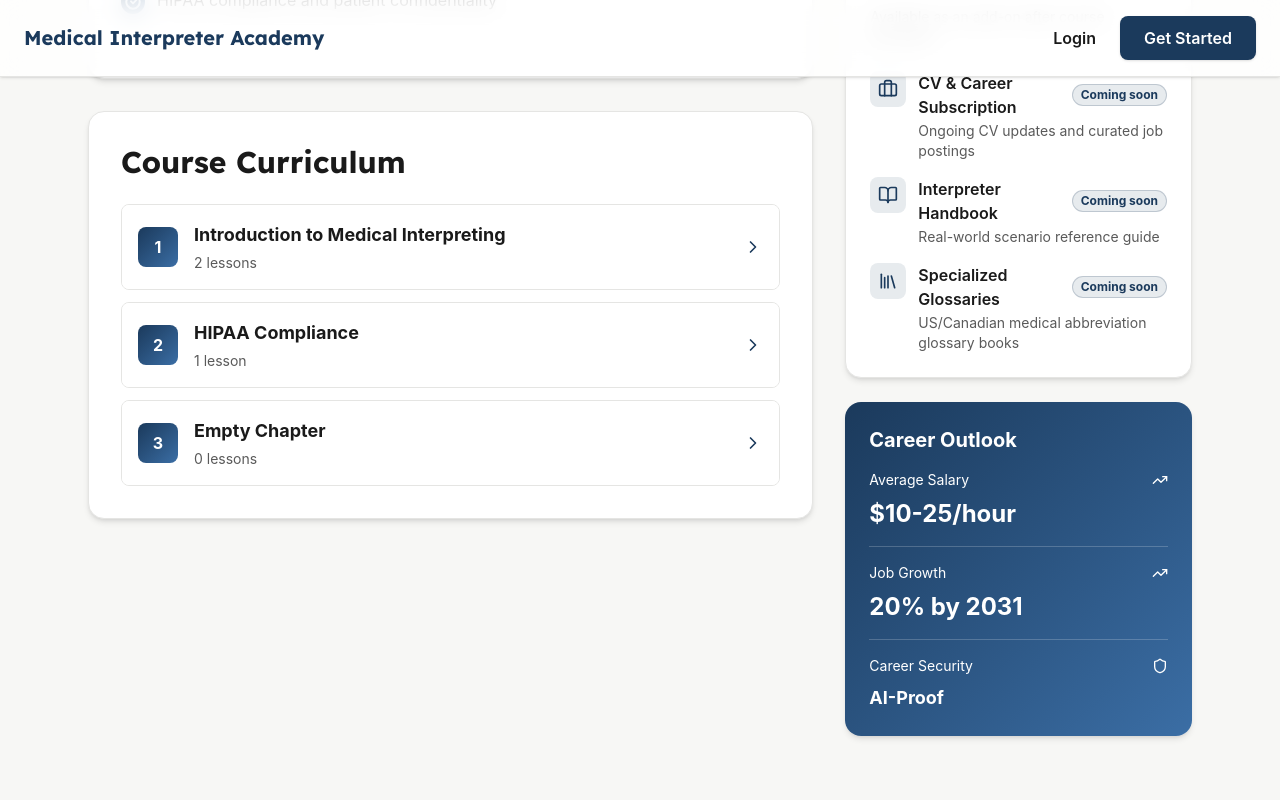
Test: CourseDetail Page › Chapter Accordion › should show "no lessons" message for empty chapters
(page scrolled)
expect the heading "Empty Chapter" is shown: met, box [194, 420, 326, 441]
Click the button "3 Empty Chapter 0 lessons". click: (158, 443)
box: [122, 401, 779, 485]
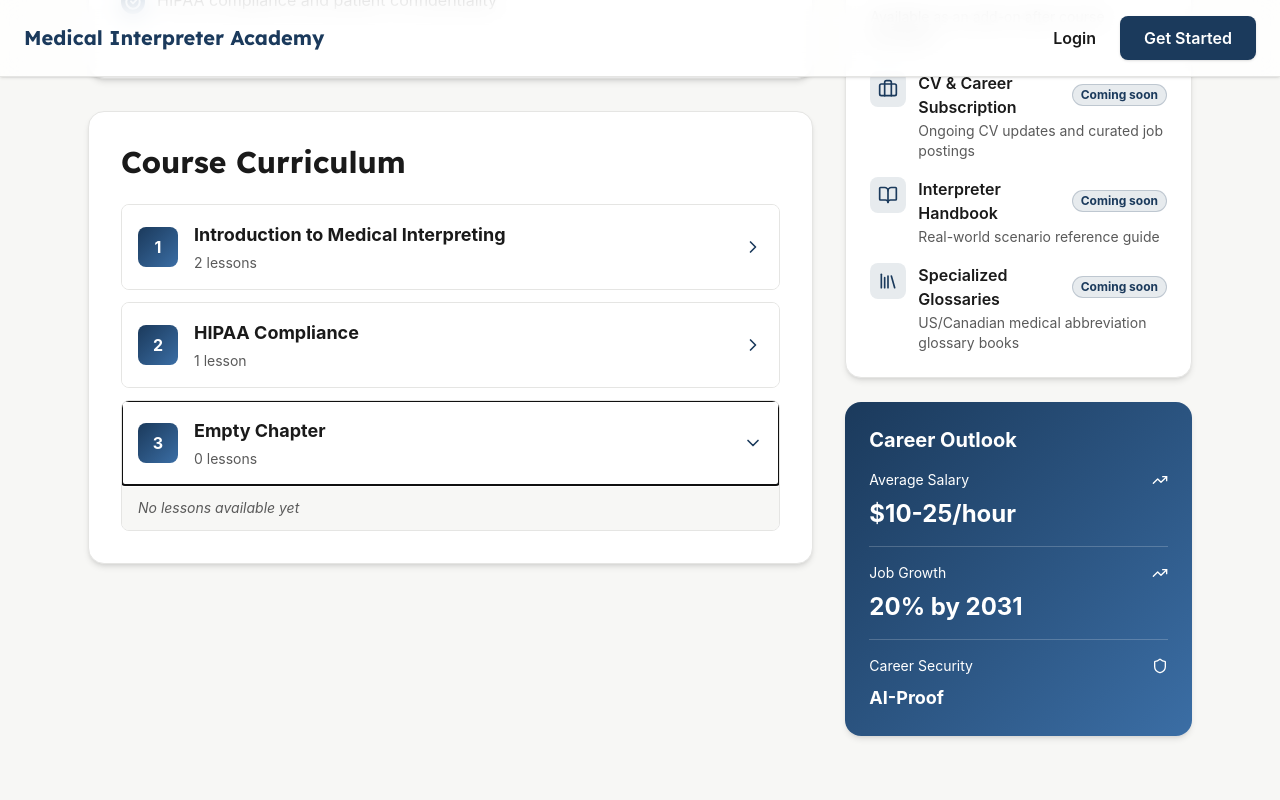
expect the text "No lessons available yet" is shown: met, box [138, 499, 299, 516]
